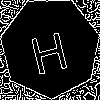H: (25, 22, 71, 76)
